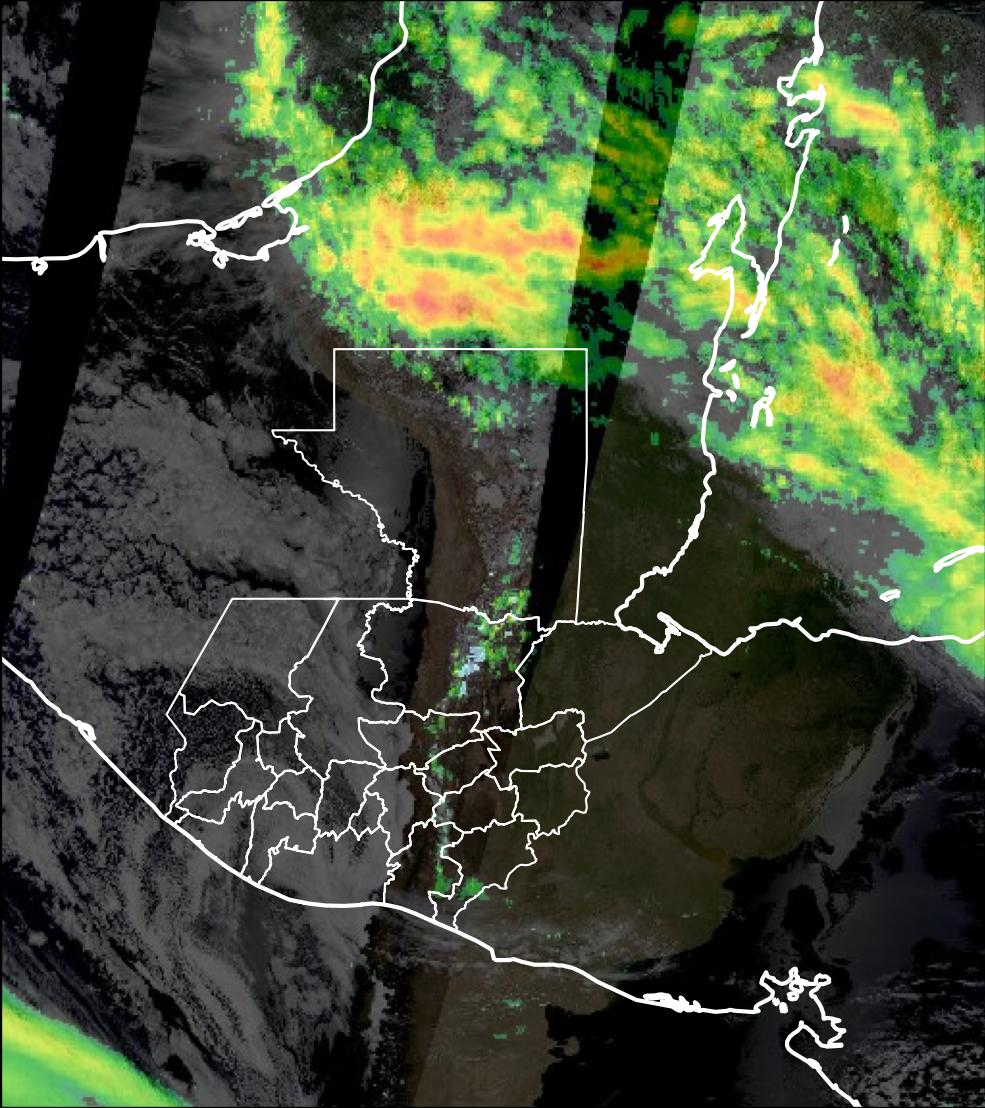precipitacion: (360, 197, 565, 337)
